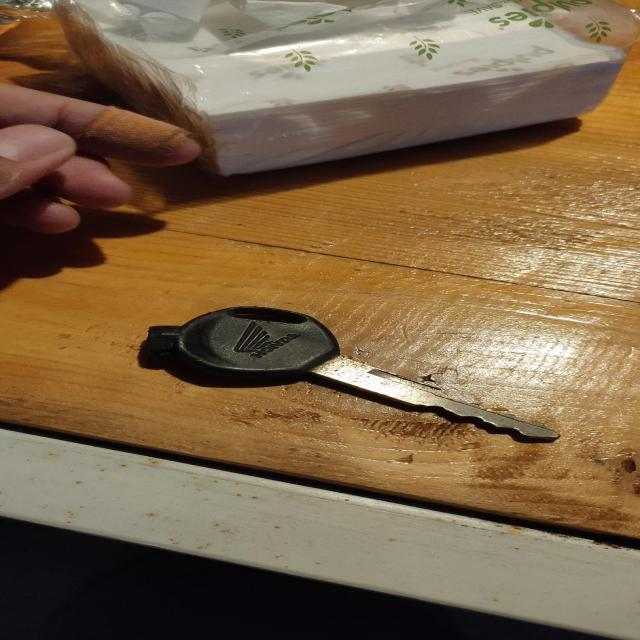kunci_motor: (123, 298, 581, 447)
